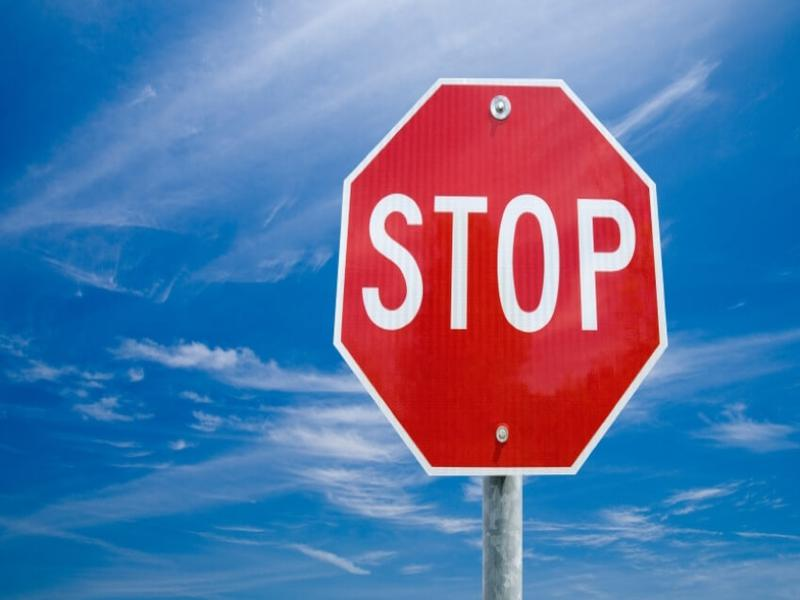stop: (332, 74, 676, 477)
